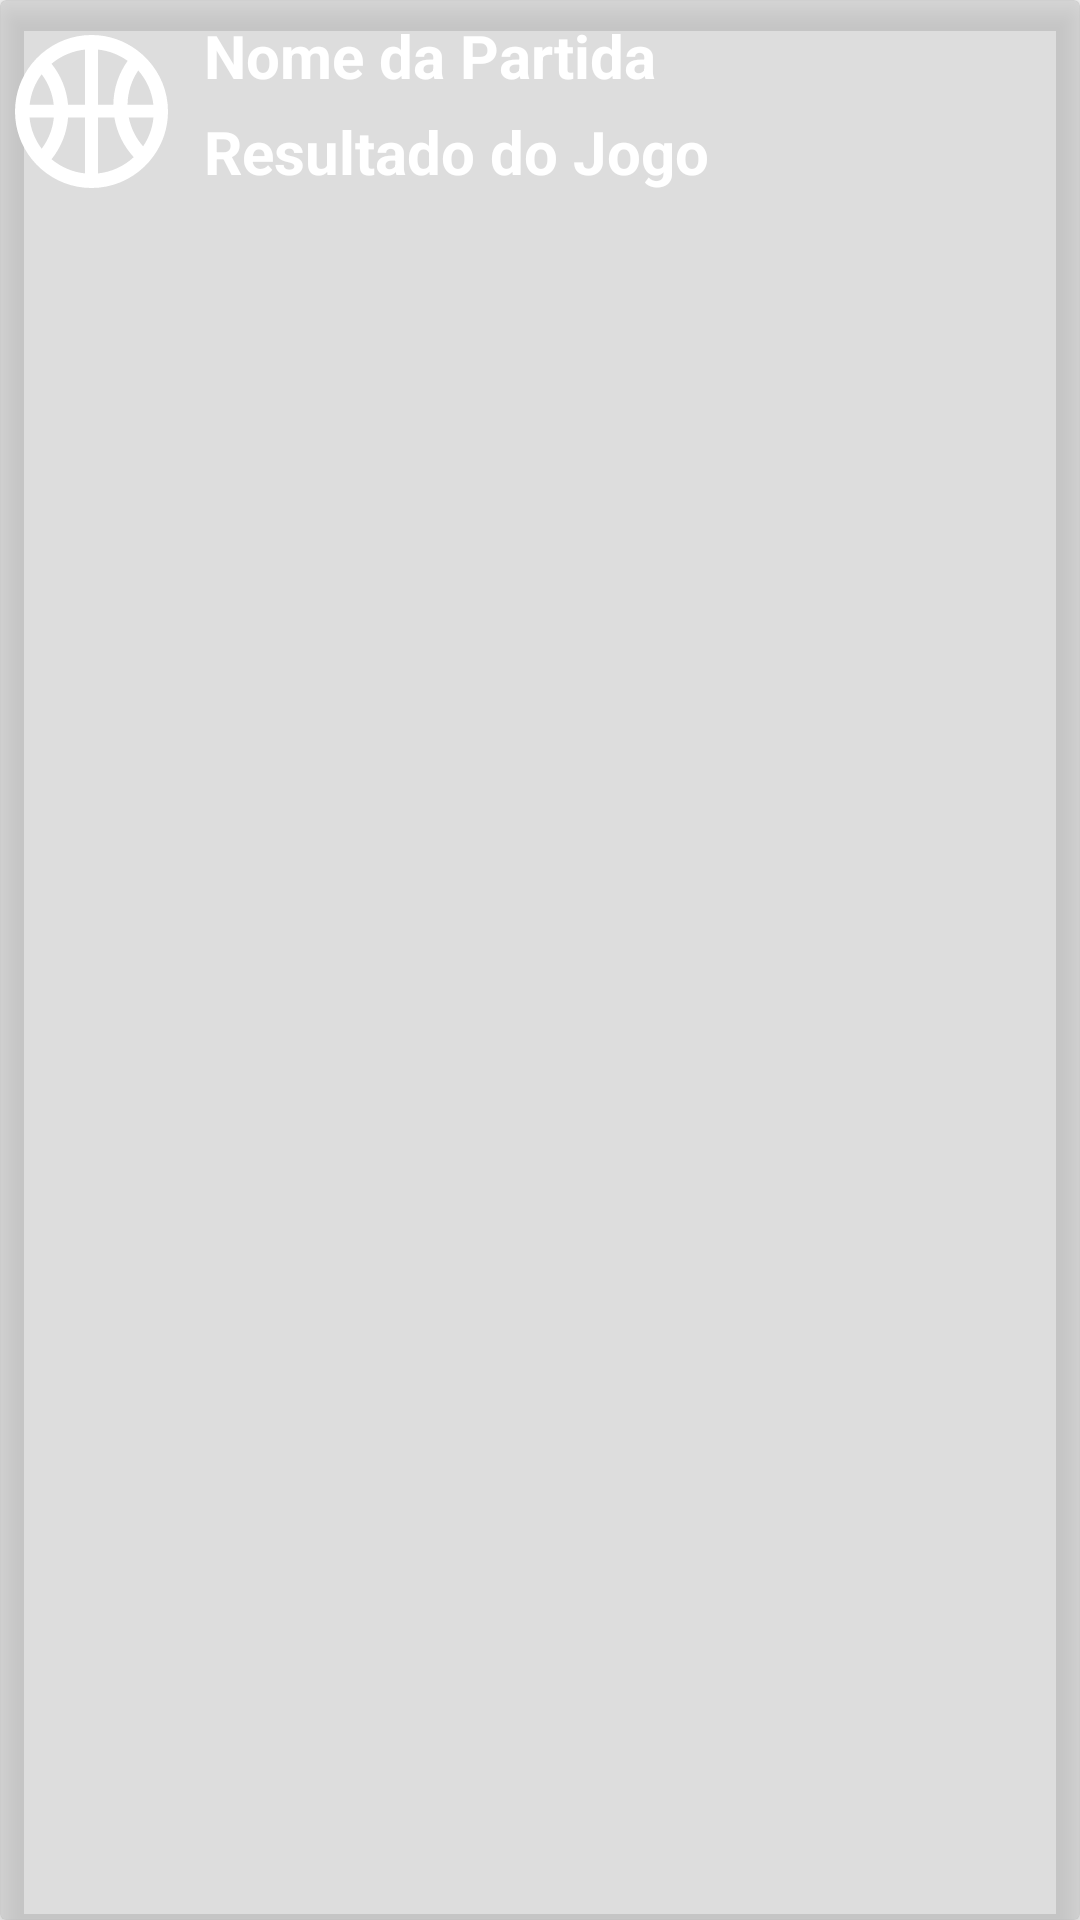

Screen size 1080x1920. Icon name, then its center in pixels as point (x, y):
basketball: point (91, 111)
